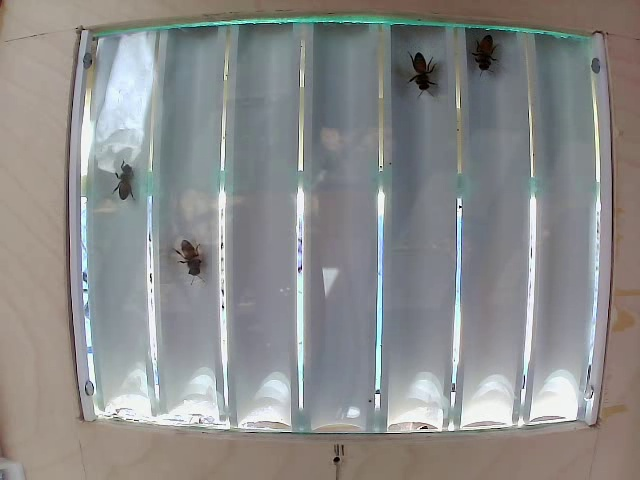bee: (170, 237, 218, 290), (398, 41, 436, 99), (463, 23, 493, 73), (106, 163, 136, 208)
